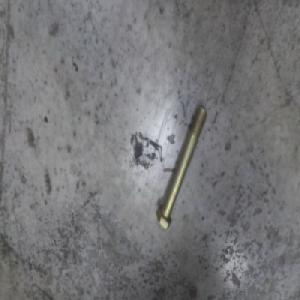Bolt: (155, 106, 206, 229)
